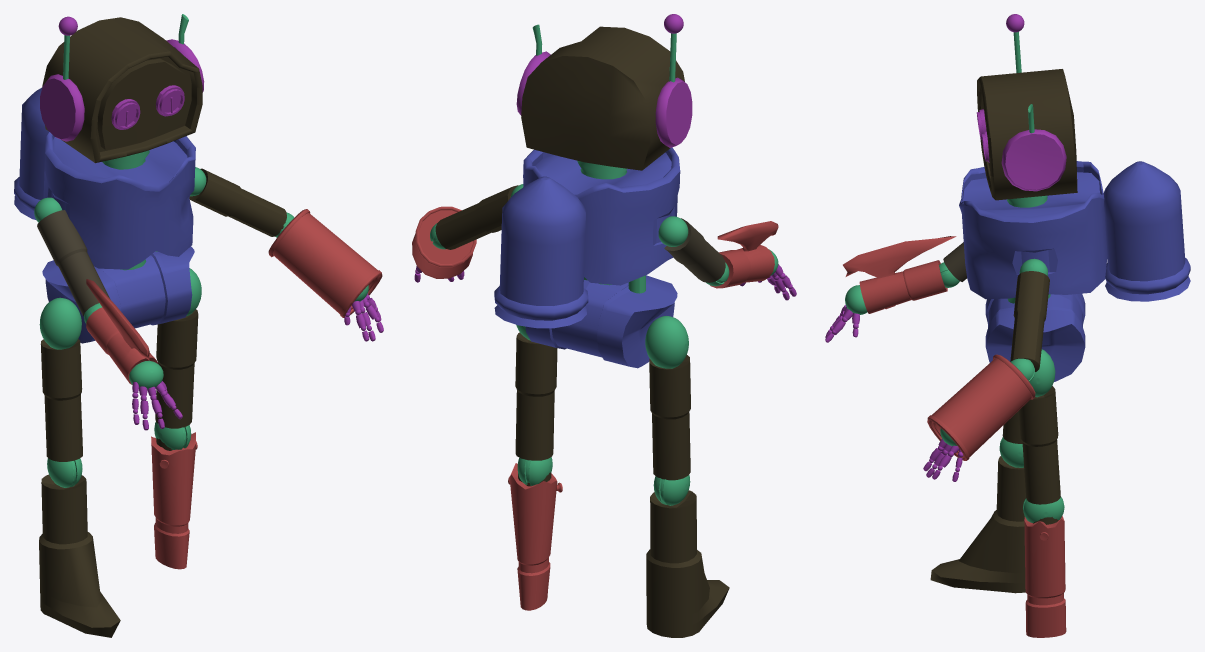
Rendered from R-BRTUVCheck.fbx.
3 renders of one model, left to right at view 1: azimuth 30°, elevation 25°; view 2: azimuth 150°, elevation 25°; view 3: azimuth 270°, elevation 25°, orthographic. The views are drawn at different scales.
Parts seen in each view (by area): view 1: Chest, Head, LeftLeg4, Hips2, RightArm5 (×2), Can, PegLeg, LeftLeg5, RighLeg2, RightArm8, JetPack, EarR1 (+6 smaller); view 2: Head, JetPack, Chest, LeftLeg4, Hips2, PegLeg, RighLeg2, LeftLeg5, RightArm5 (×2), RightArm8, Can, EarR1 (+5 smaller); view 3: Chest, JetPack, Head, LeftLeg4, Can, RightArm8, Hips2, PegLeg, RighLeg2, RightArm5 (×2), EarR, RightHip (+2 smaller).
Part boxes in pixels (x1,y1,x2,y2): Chest: [43, 132, 195, 269]; Head: [42, 17, 202, 163]; LeftLeg4: [39, 474, 120, 637]; Hips2: [42, 246, 194, 343]; RightArm5 (×2): [37, 168, 286, 316]; Can: [268, 209, 382, 317]; PegLeg: [151, 432, 196, 569]; LeftLeg5: [40, 339, 82, 461]; RighLeg2: [155, 309, 198, 428]; RightArm8: [86, 279, 157, 384]; JetPack: [14, 87, 48, 220]; EarR1: [40, 74, 84, 141]; Head: [521, 26, 684, 170]; JetPack: [494, 176, 588, 328]; Chest: [523, 147, 680, 285]; LeftLeg4: [646, 490, 729, 637]; Hips2: [525, 275, 677, 368]; PegLeg: [509, 463, 557, 610]; RighLeg2: [515, 332, 557, 460]; LeftLeg5: [649, 355, 690, 480]; RightArm5 (×2): [435, 185, 725, 282]; RightArm8: [710, 221, 778, 288]; Can: [412, 206, 476, 278]; EarR1: [655, 77, 692, 147]; Chest: [959, 161, 1107, 299]; JetPack: [1103, 161, 1190, 301]; Head: [977, 69, 1077, 200]; LeftLeg4: [930, 456, 1025, 593]; Can: [927, 354, 1035, 460]; RightArm8: [843, 236, 956, 313]; Hips2: [985, 293, 1085, 381]; PegLeg: [1024, 516, 1066, 637]; RighLeg2: [1019, 386, 1060, 504]; RightArm5 (×2): [943, 242, 1049, 371]; EarR: [1001, 129, 1066, 191]; RightHip: [1029, 349, 1055, 397].
Size of the model in its own units: 54.17 by 99.33 by 57.89.
